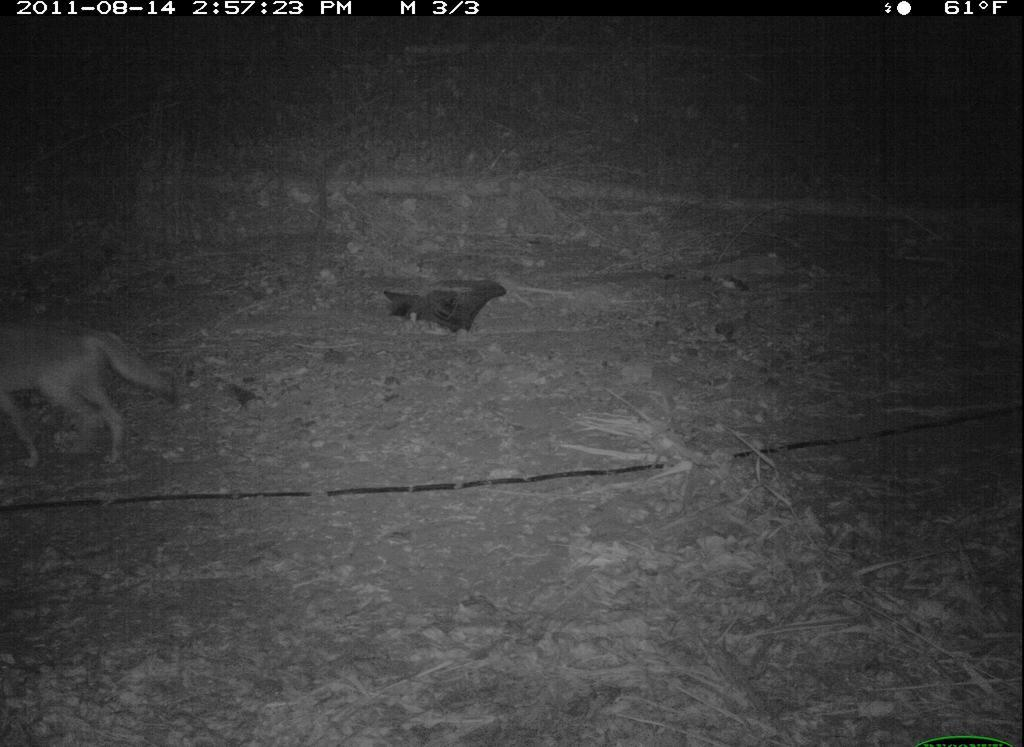coyote: (1, 310, 189, 478)
